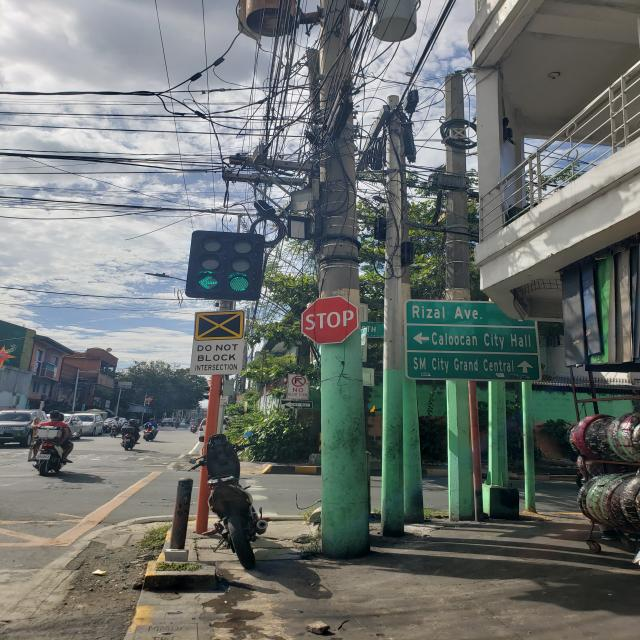stop-sign: (302, 296, 359, 345)
